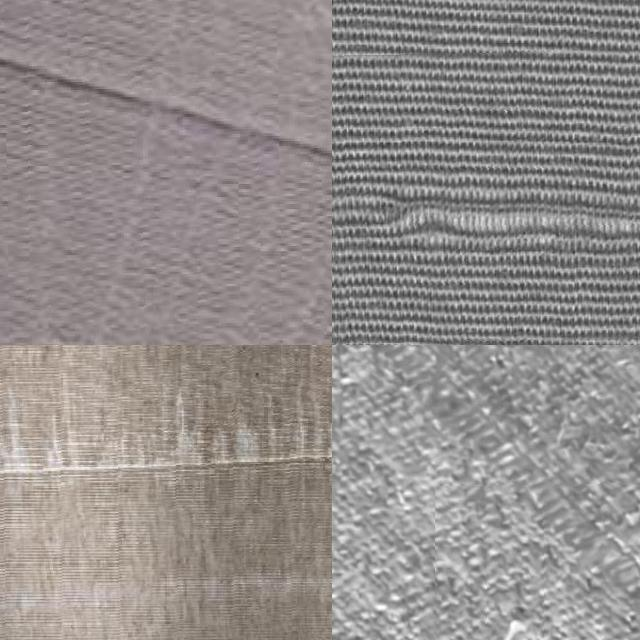stains: (0, 345, 332, 640), (332, 50, 640, 342), (435, 482, 640, 640)
